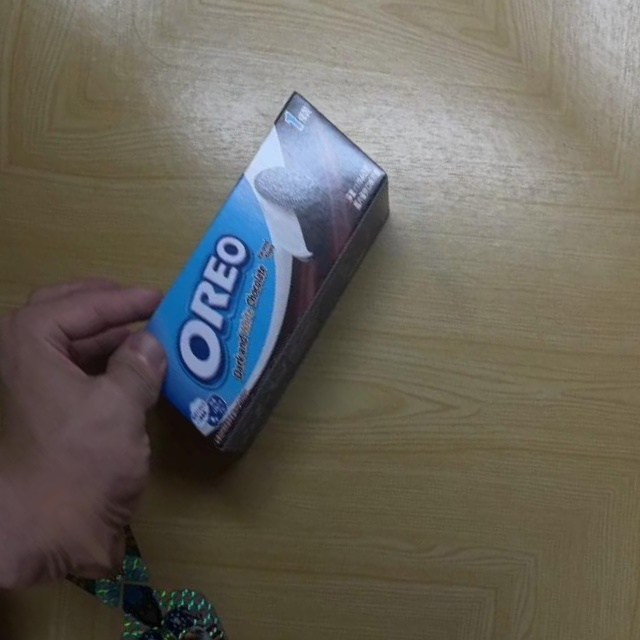Oreo: (66, 79, 470, 474)
